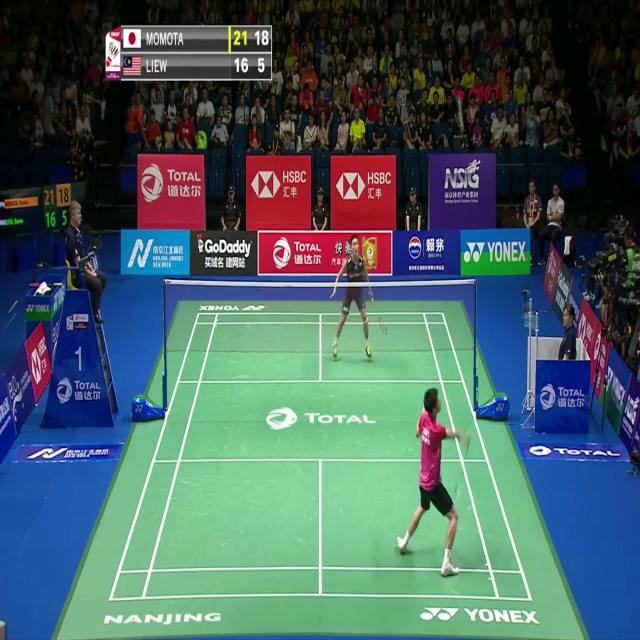Shuttlecock: (457, 105, 463, 117)
